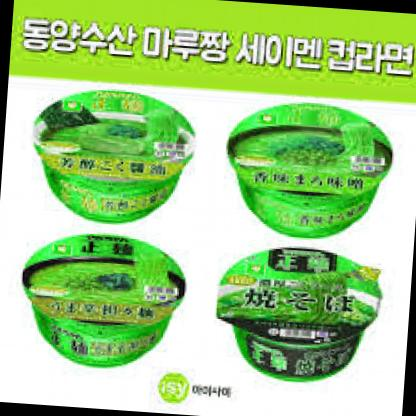Ramen: (213, 244, 391, 390), (30, 86, 204, 234), (16, 226, 197, 367), (218, 98, 393, 242)
